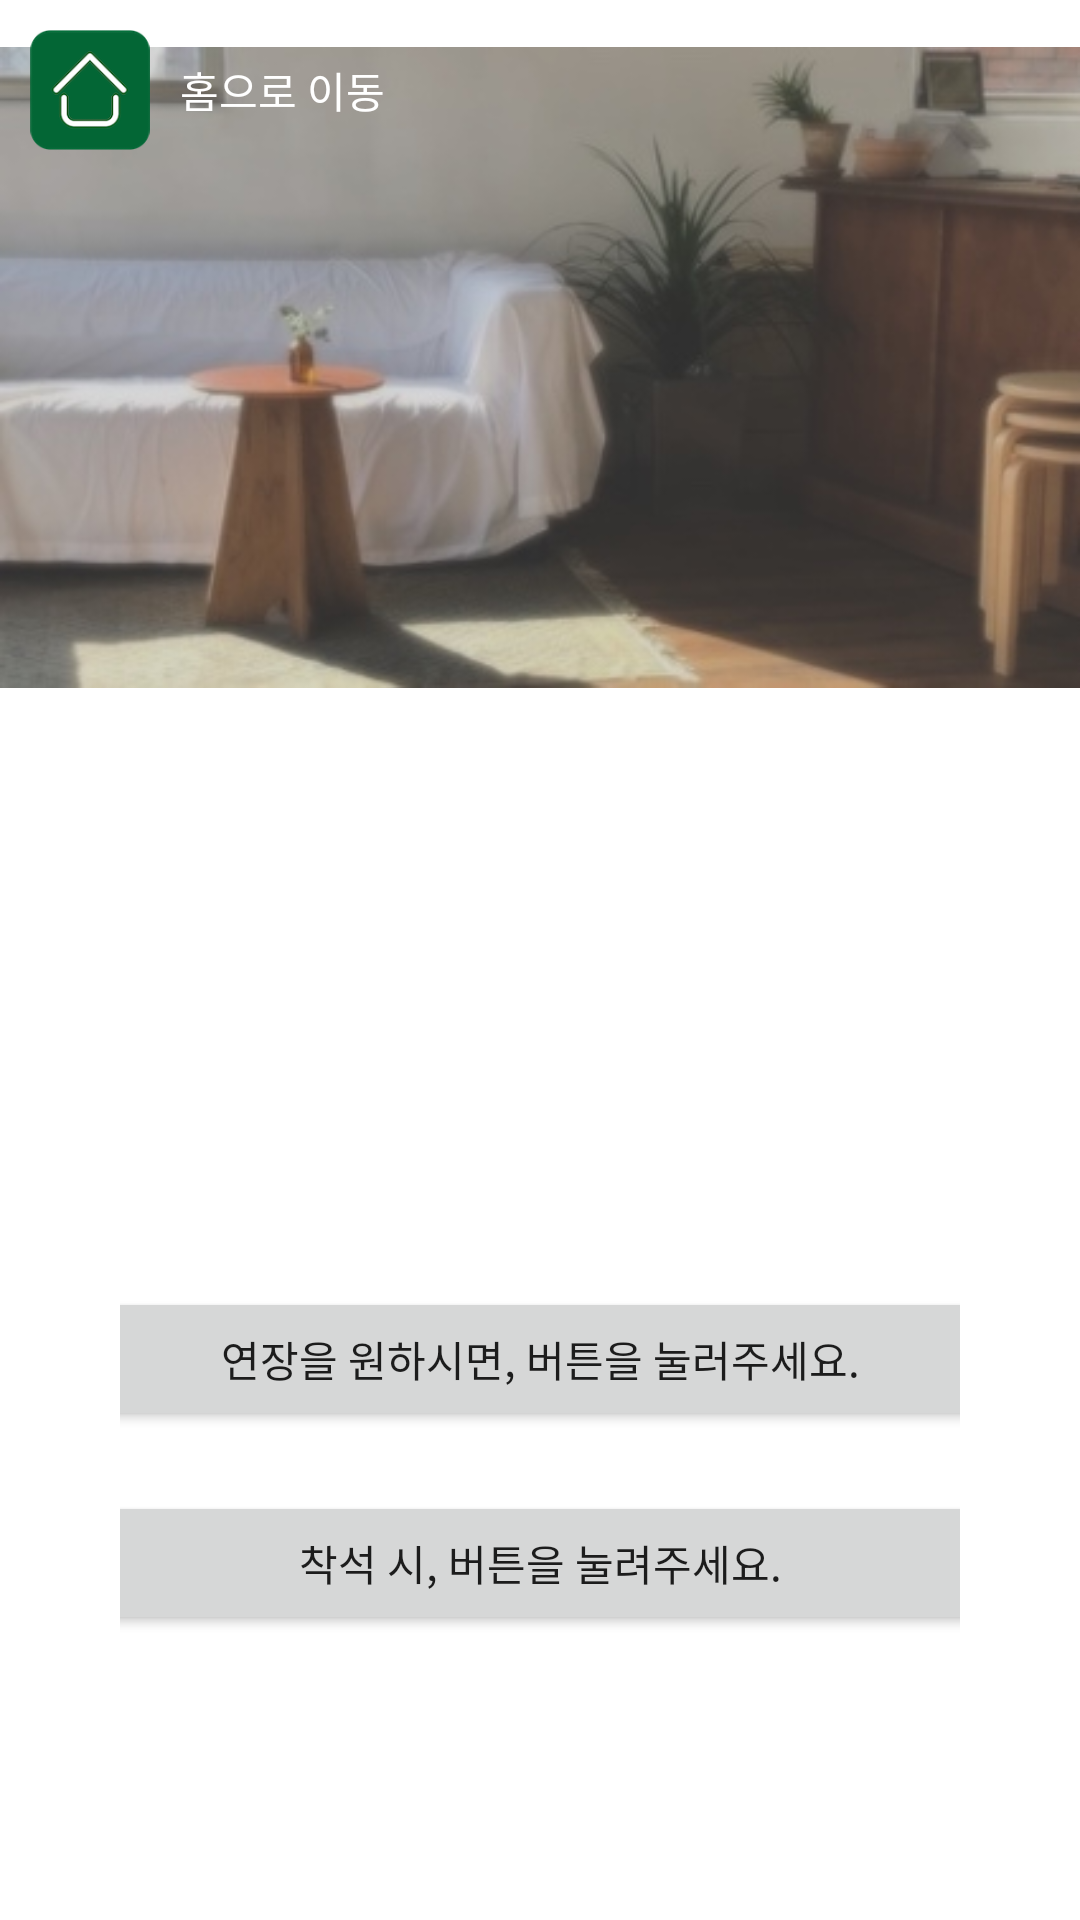

Named icons in this screenshot (1080 × 1920) and their centers, (x,y):
home: (90,90)
